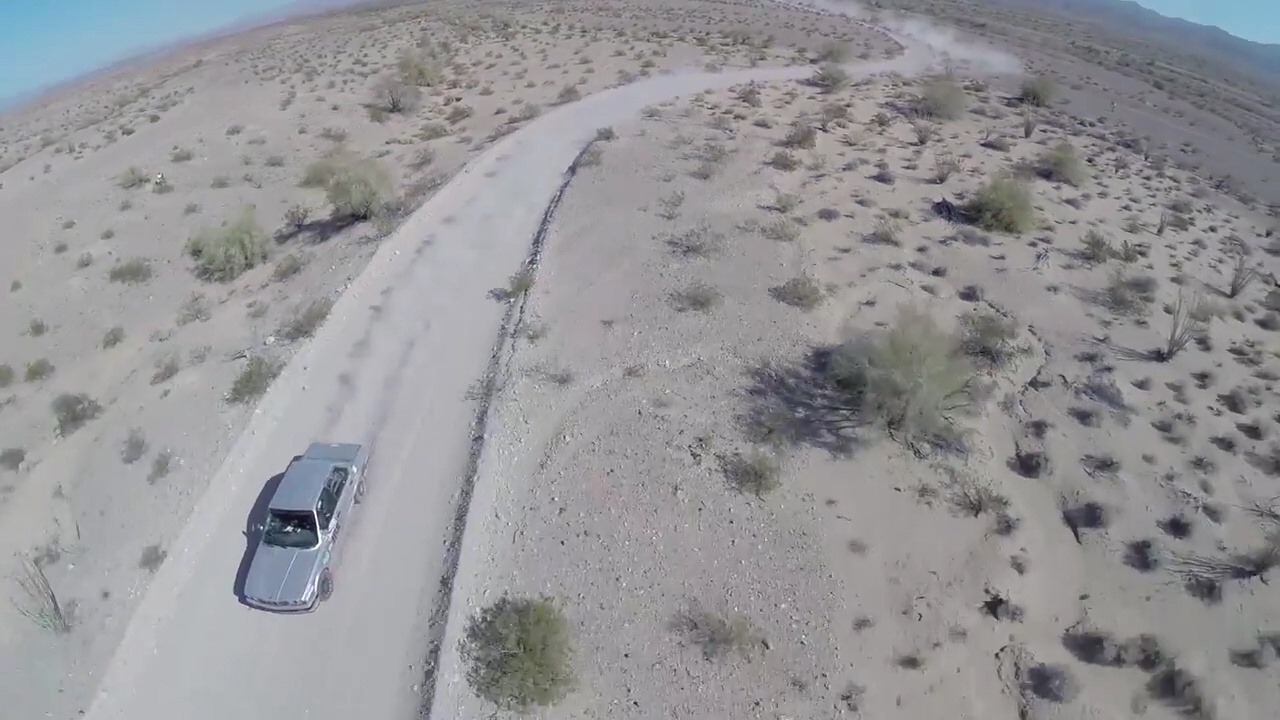araba: (240, 441, 372, 611)
